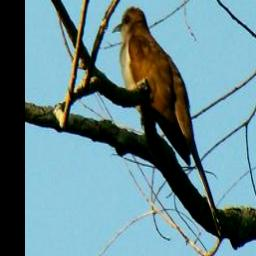Cuckoo: (113, 5, 193, 169)
